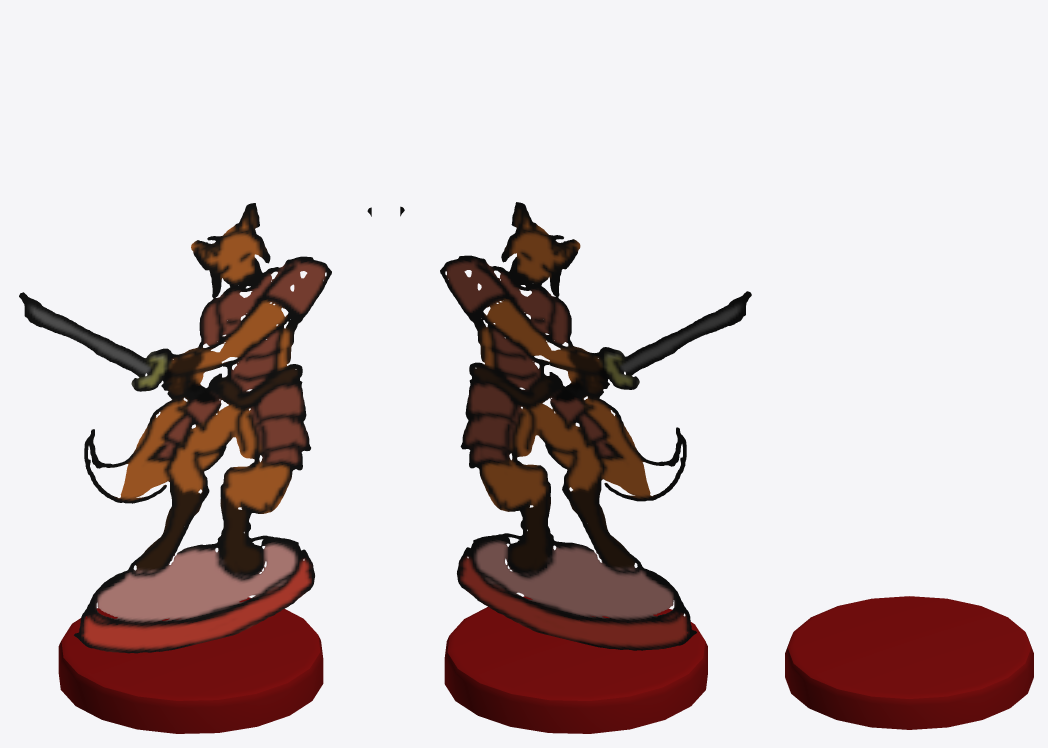
File: swordfighter .fbx
3 views of the same model, side by side, from view 1: azimuth 30°, elevation 25°; view 2: azimuth 150°, elevation 25°; view 3: azimuth 270°, elevation 25° (orthographic). The views are drawn at different scales.
Visible parts, largest first — view 1: pPlane1, pCylinder1; view 2: pPlane1, pCylinder1; view 3: pCylinder1.
Boxes of the visible parts, x1,y1,x2,y2 form: pPlane1: (19, 203, 371, 653); pCylinder1: (58, 597, 323, 733); pPlane1: (400, 202, 751, 650); pCylinder1: (444, 596, 707, 733); pCylinder1: (785, 596, 1033, 729).
Size of the model in its own units: 9.43 by 15.68 by 6.08.
